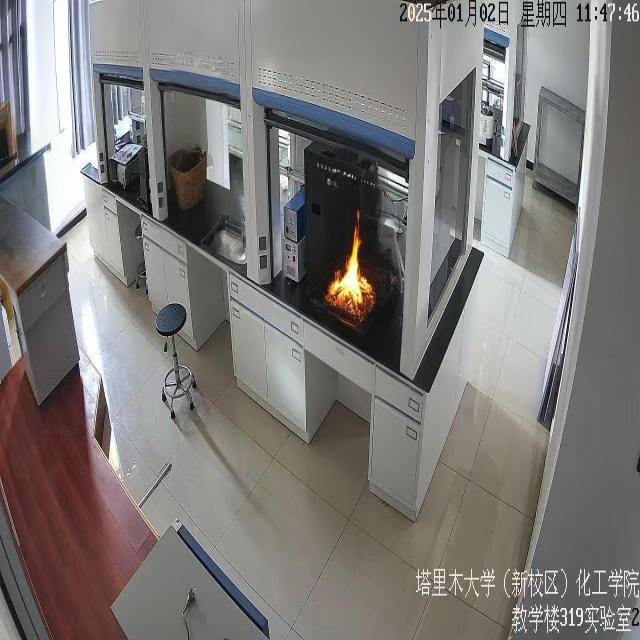smoke: (328, 213, 376, 315)
